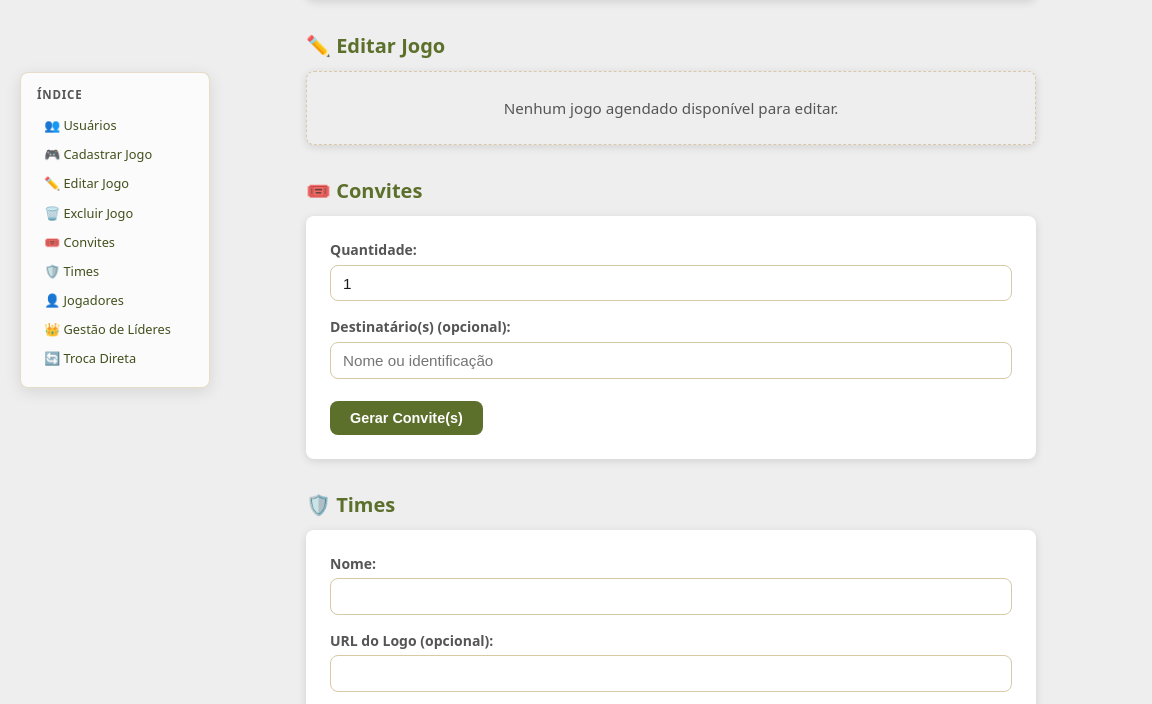
Test: InvitesSection — descrições individuais por convite › preserva valores existentes ao aumentar quantity
(page scrolled)
Type "Alice" into the field with placeholder "Nome ou identificação" at {"x": 671, "y": 360}, box 330,342 -> 1012,378
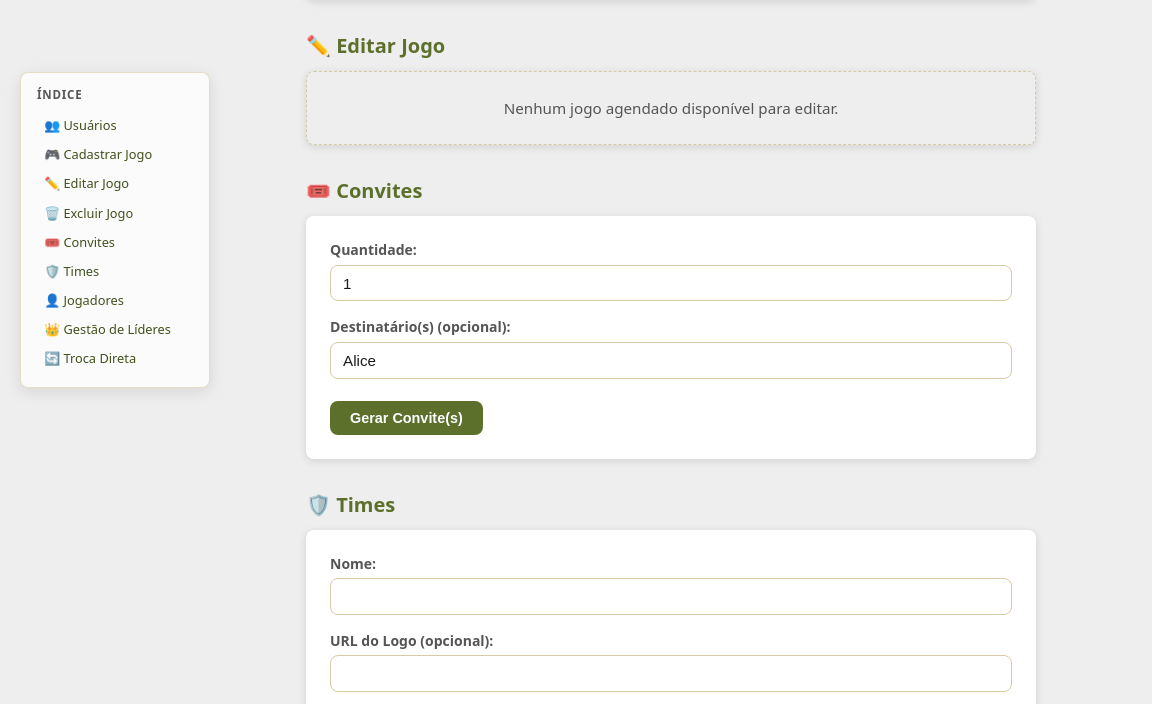
# Aumenta para 2
Replace the text in the number field labelled "Quantidade:" with "2" at {"x": 671, "y": 283}, box 330,265 -> 1012,301
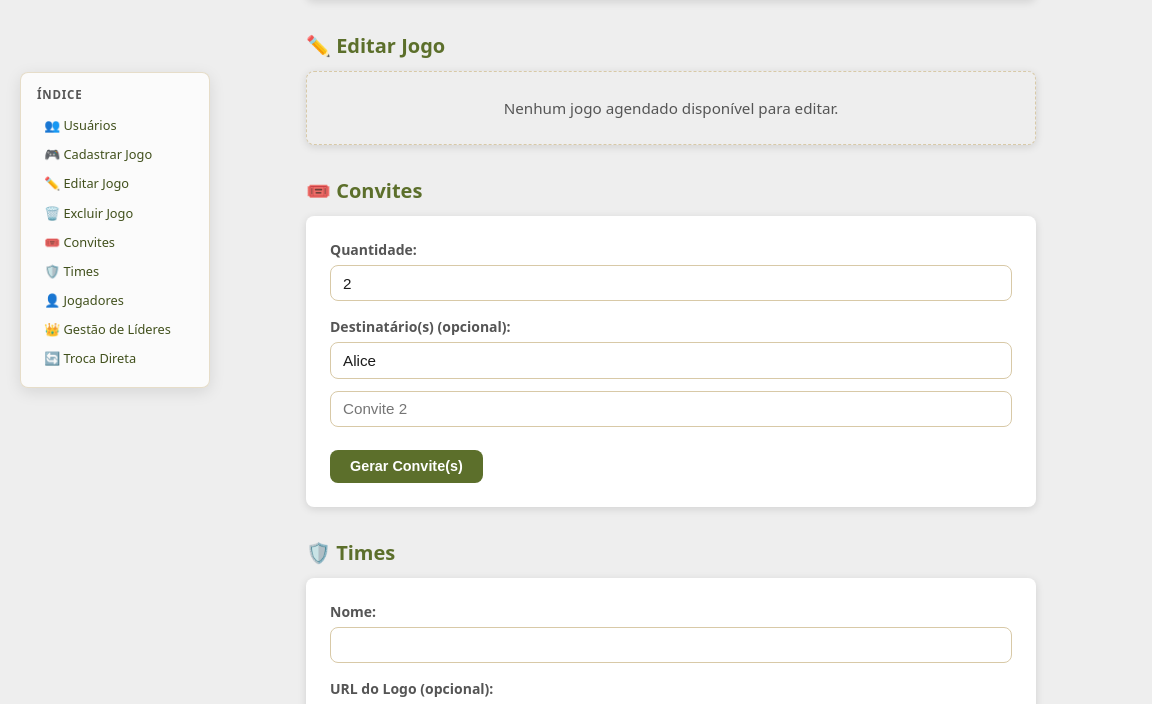
Check: the field with placeholder "Convite 2" is shown, box 330,390 -> 1012,427
